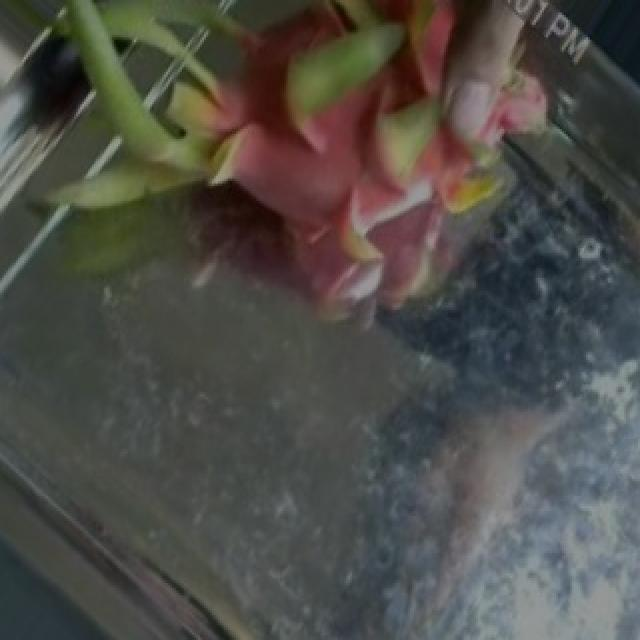fruit: (222, 0, 636, 384), (8, 0, 414, 362)
